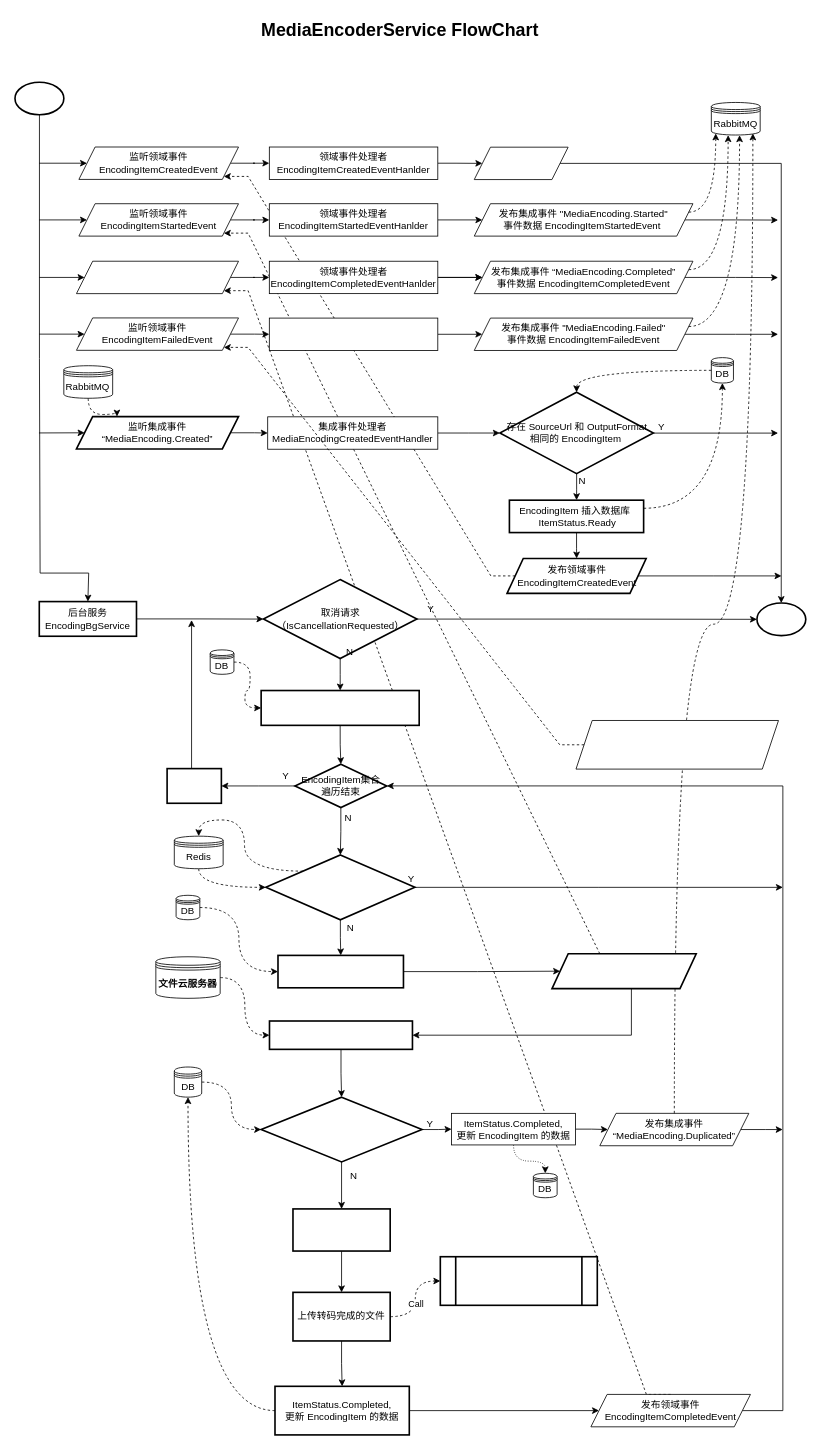
The diagram is 823 pixels wide and 1449 high, and some of its shapes have lost their labels. The box of each missing label's shape, as (x1, y1, x2, y2) in pixels:
End: (756, 602, 806, 636)
FileService.SDK.NETCore: (439, 1256, 598, 1306)
ItemStatus.Started, 更新 EncodingItem 的数据: (277, 954, 404, 988)
Null: (473, 146, 568, 180)
Start: (14, 81, 64, 115)
下载待转码的文件 FileInfo， 并计算【大小】和【Hash值】: (268, 1020, 413, 1050)
发布领域事件EncodingItemStartedEvent: (551, 953, 697, 989)
启动 ReLock 分布式锁， 资源是否已被锁定: (265, 854, 415, 920)
在执行EncodingItem集合遍历的过程中， 出现异常会或执行失败，会遍历下一个， 并 发布领域事件 EncodingItemFailedEvent: (575, 720, 778, 769)
存在 【大小】和【Hash值】 相同的 UploadedItem: (260, 1096, 422, 1162)
执行文件转码: (292, 1208, 391, 1251)
查找 ItemStatus.Ready 状态 的 EncodingItem 集合，进行遍历: (260, 689, 420, 726)
监听领域事件 EncodingItemCompletedEvent: (76, 260, 239, 294)
等待 5s: (166, 767, 222, 804)
领域事件处理者 EncodingItemFailedEventHanlder: (269, 317, 438, 350)
